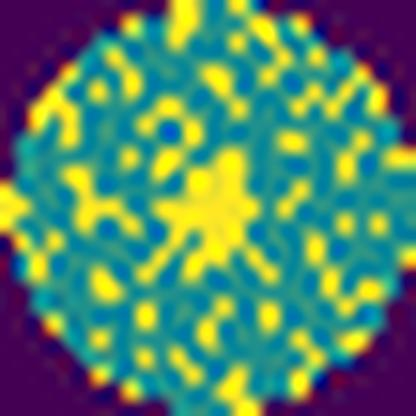Center: (139, 145, 266, 279)
